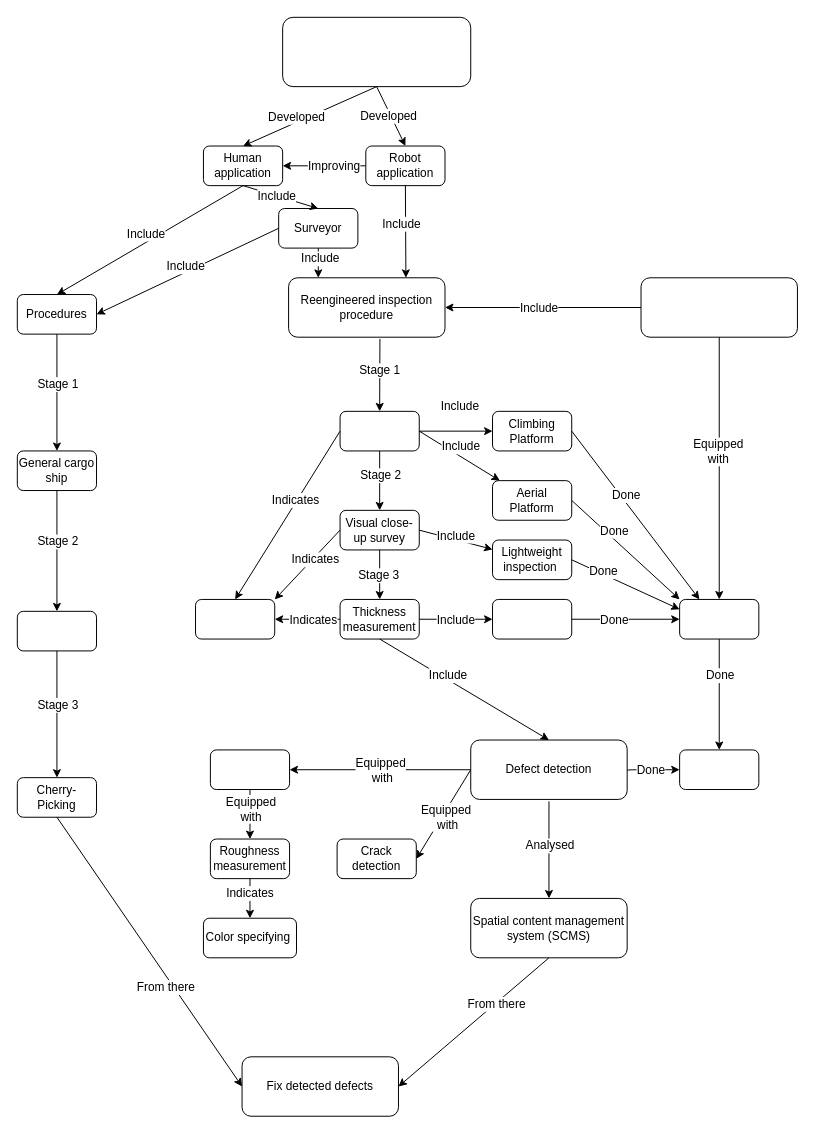
The diagram is 815 pixels wide and 1134 high, and some of its shapes have lost their labels. Here are the shapes that lost their labels. From the top down, the centre of each, then its label:
[376,51]: Marine vessel inpection
[718,307]: Management system
[379,430]: Fast visual
[56,630]: Staging previous
[235,618]: Defect Probability
[532,618]: Heavyweight inspection
[719,618]: Performance evaluation
[249,769]: Corrosion detection
[719,769]: Field experience
